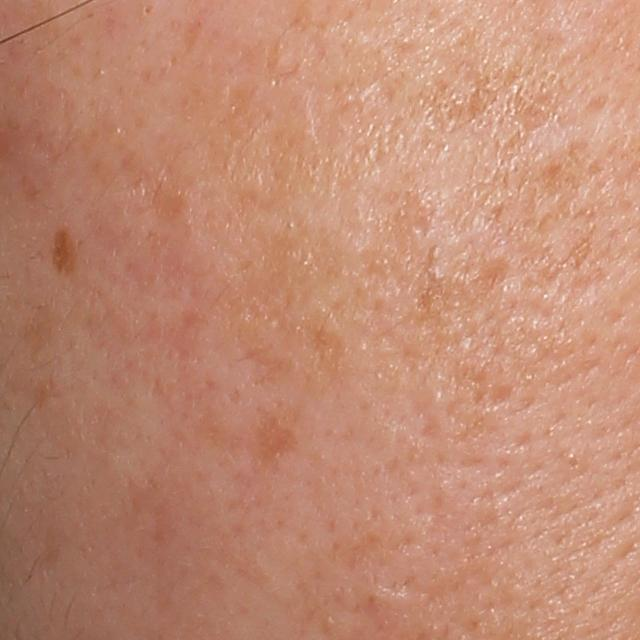atrophic_scar: (378, 549, 426, 596), (475, 254, 510, 296), (487, 384, 513, 412)
comedo: (140, 1, 154, 17)
melasma: (50, 228, 81, 273)
